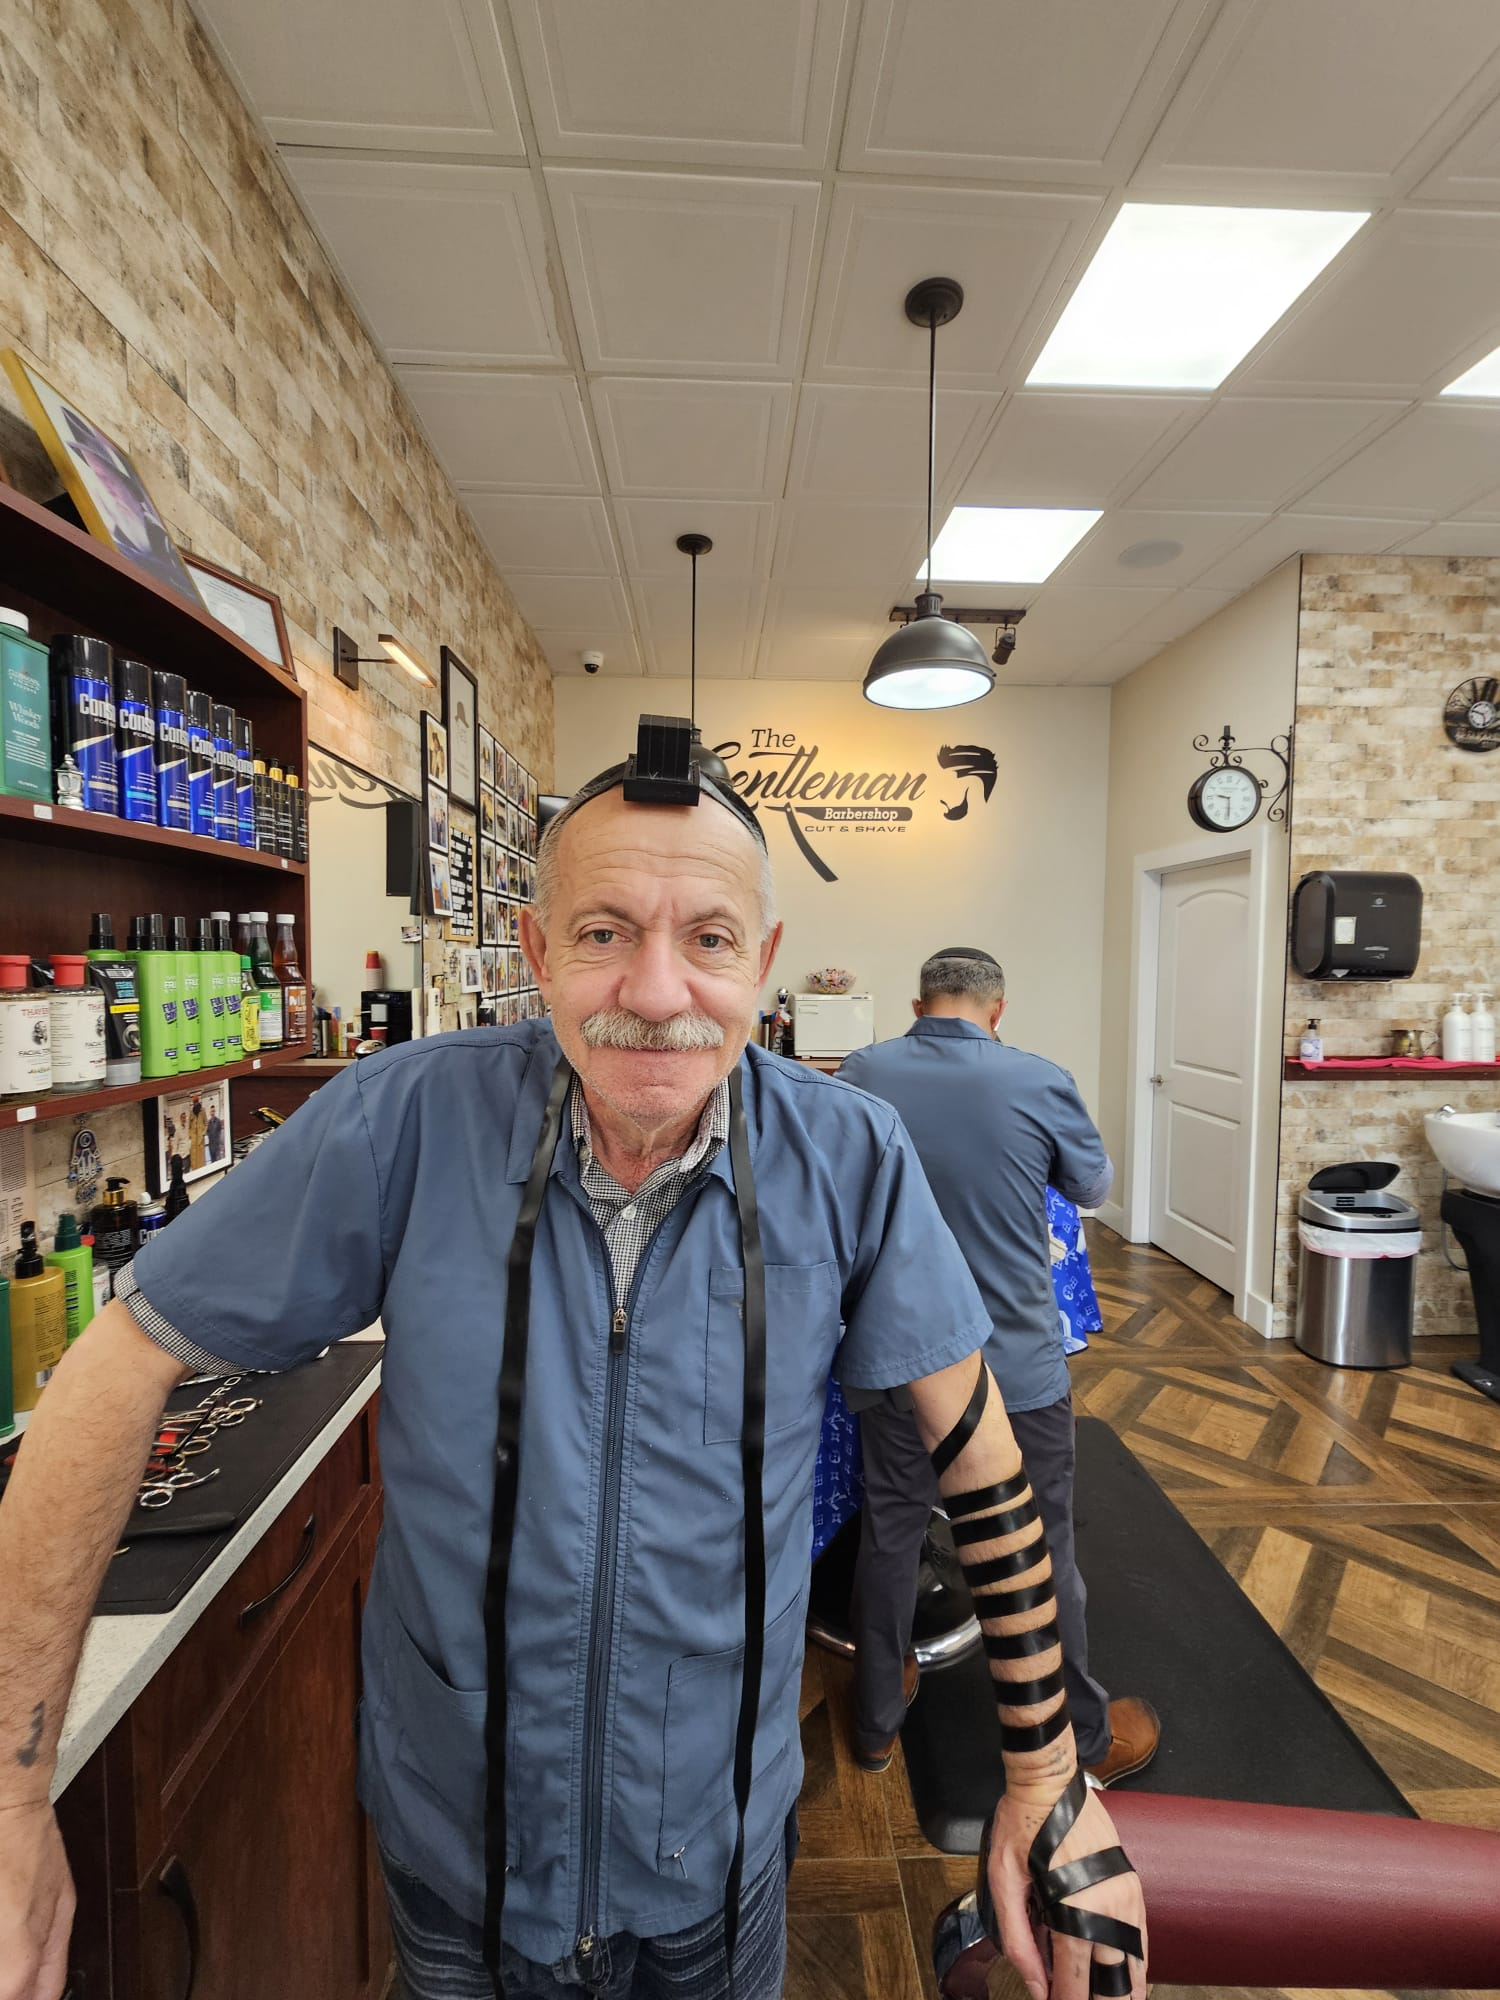tefillin: (622, 720, 703, 811)
